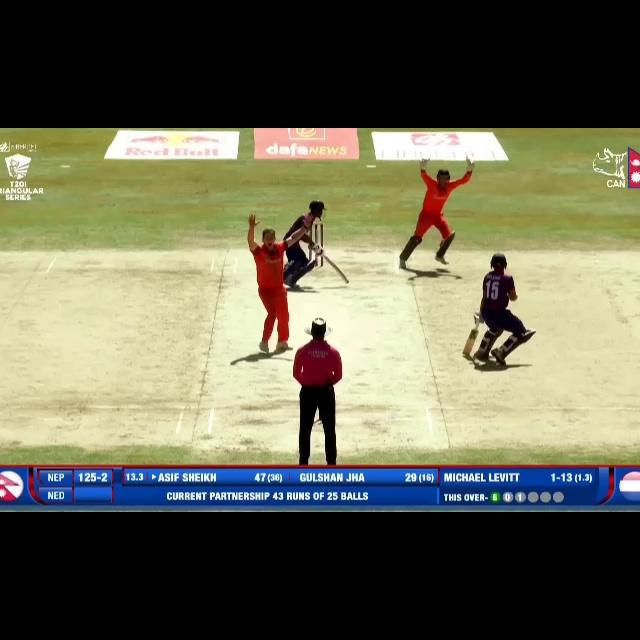umpire: (283, 312, 348, 468)
